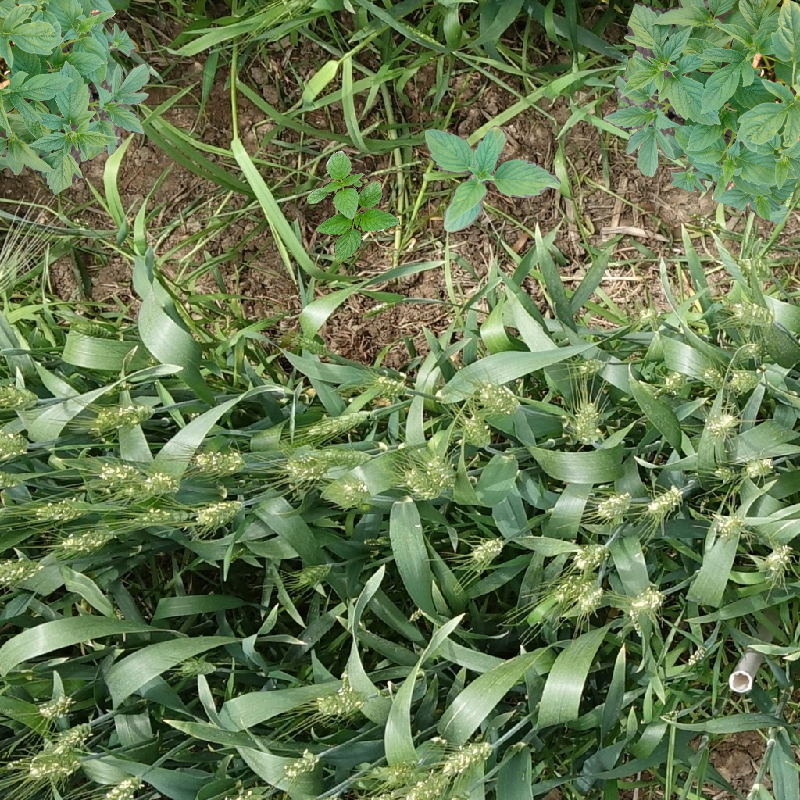spikelet: (439, 738, 494, 777), (55, 523, 118, 557), (88, 401, 155, 432), (306, 408, 371, 438), (565, 397, 604, 447), (192, 496, 247, 531), (28, 493, 89, 523), (474, 379, 522, 416), (96, 459, 145, 494), (26, 750, 81, 781), (192, 446, 246, 476), (643, 483, 685, 521), (758, 540, 797, 580), (314, 687, 363, 718), (551, 571, 596, 604), (730, 297, 775, 329), (282, 451, 326, 483), (569, 539, 612, 571), (402, 770, 449, 799), (52, 719, 94, 751), (457, 414, 494, 450), (467, 535, 505, 570), (403, 466, 440, 501), (626, 584, 665, 617), (594, 490, 634, 522), (701, 409, 741, 441), (99, 773, 146, 800), (423, 455, 457, 492), (140, 467, 180, 498), (736, 253, 776, 284), (567, 351, 608, 381), (283, 747, 321, 779), (372, 368, 411, 399), (294, 559, 334, 589), (1, 381, 39, 411), (573, 583, 607, 616), (176, 654, 219, 679), (338, 478, 375, 507), (729, 338, 765, 367), (36, 692, 74, 719), (1, 555, 35, 585), (631, 303, 667, 331), (658, 366, 690, 397), (713, 512, 747, 540), (1, 428, 30, 460), (743, 453, 776, 480), (684, 644, 712, 671), (712, 463, 741, 484), (1, 467, 26, 491)
weed: (607, 1, 800, 205), (1, 1, 159, 192), (425, 125, 561, 233), (304, 152, 407, 268)
